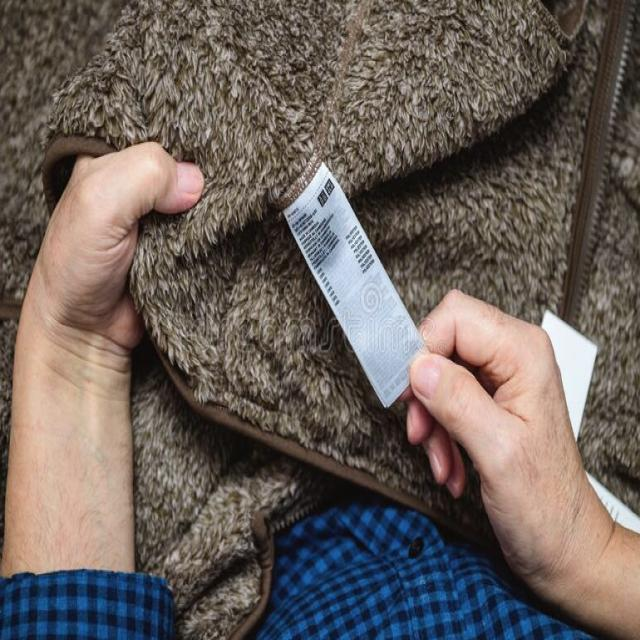clothes: (197, 31, 408, 453)
